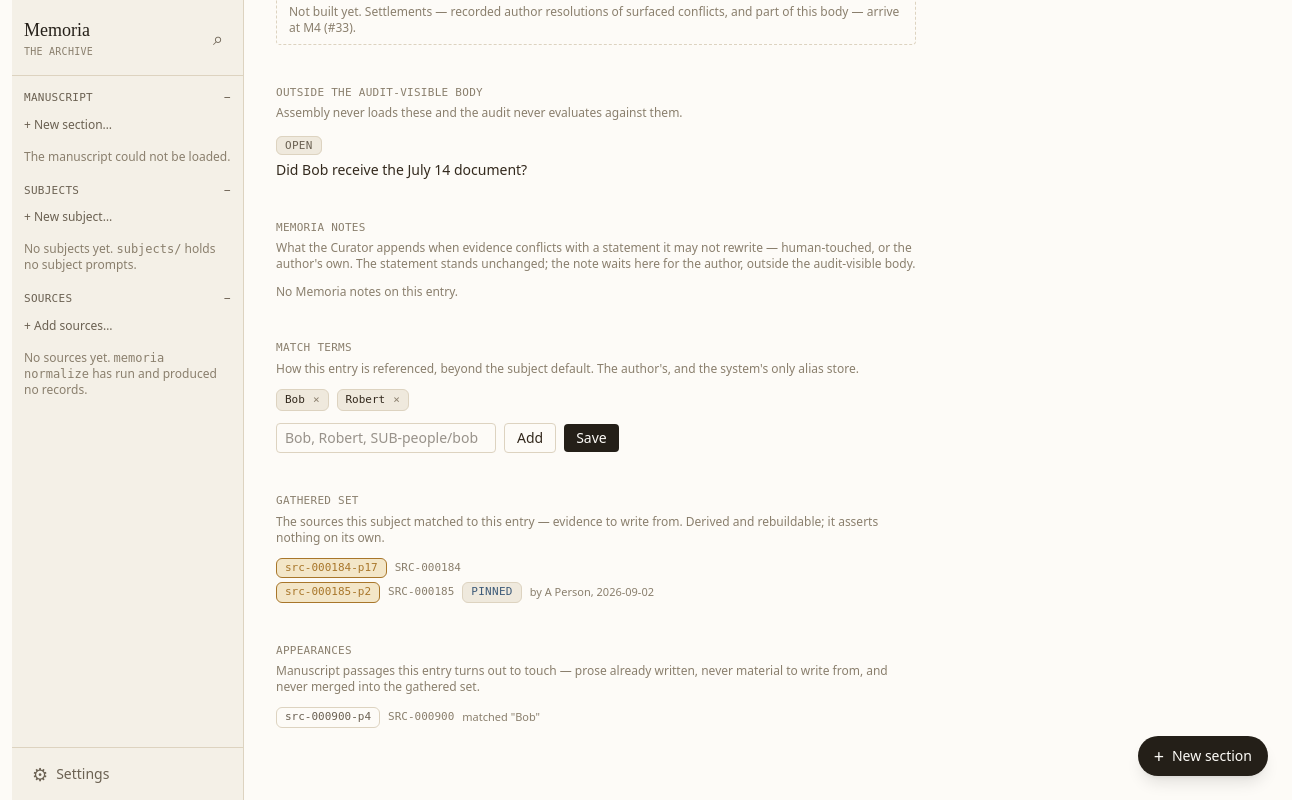
editing match terms - the first durable write (ADR-0003) › tells an ordinary failure apart from a staleness rejection
The width and height of the screenshot is (1292, 800).
(page scrolled)
Step 1. Click the button "Save" → click(592, 438), box [564, 424, 619, 452]
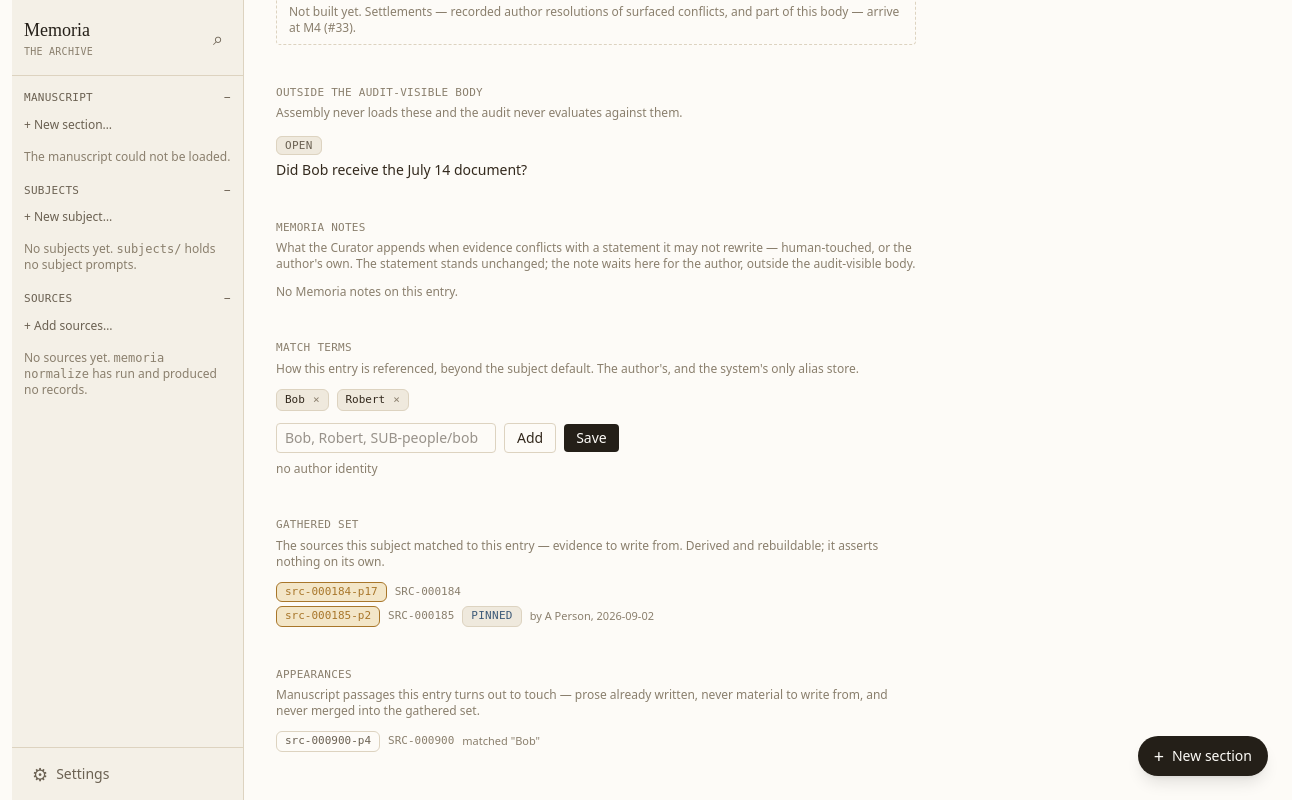
Expected: the text "no author identity" is shown, [276, 460, 378, 477]
